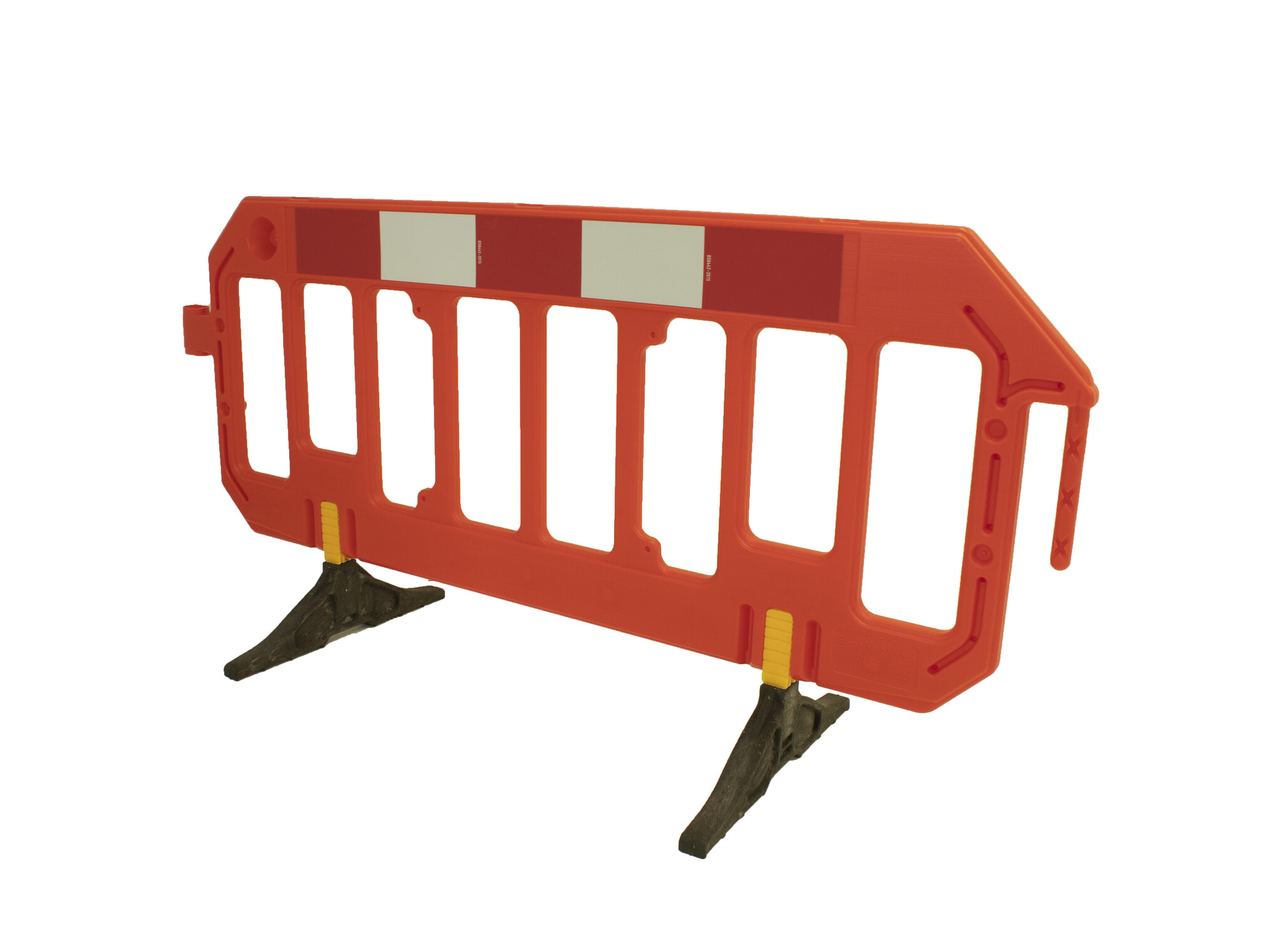Barrier: (168, 153, 1125, 872)
